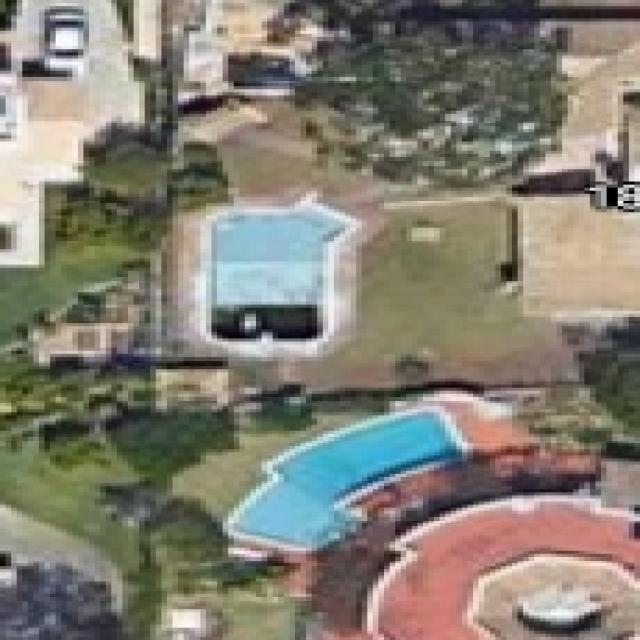pool: (222, 408, 470, 550), (195, 203, 334, 339)
